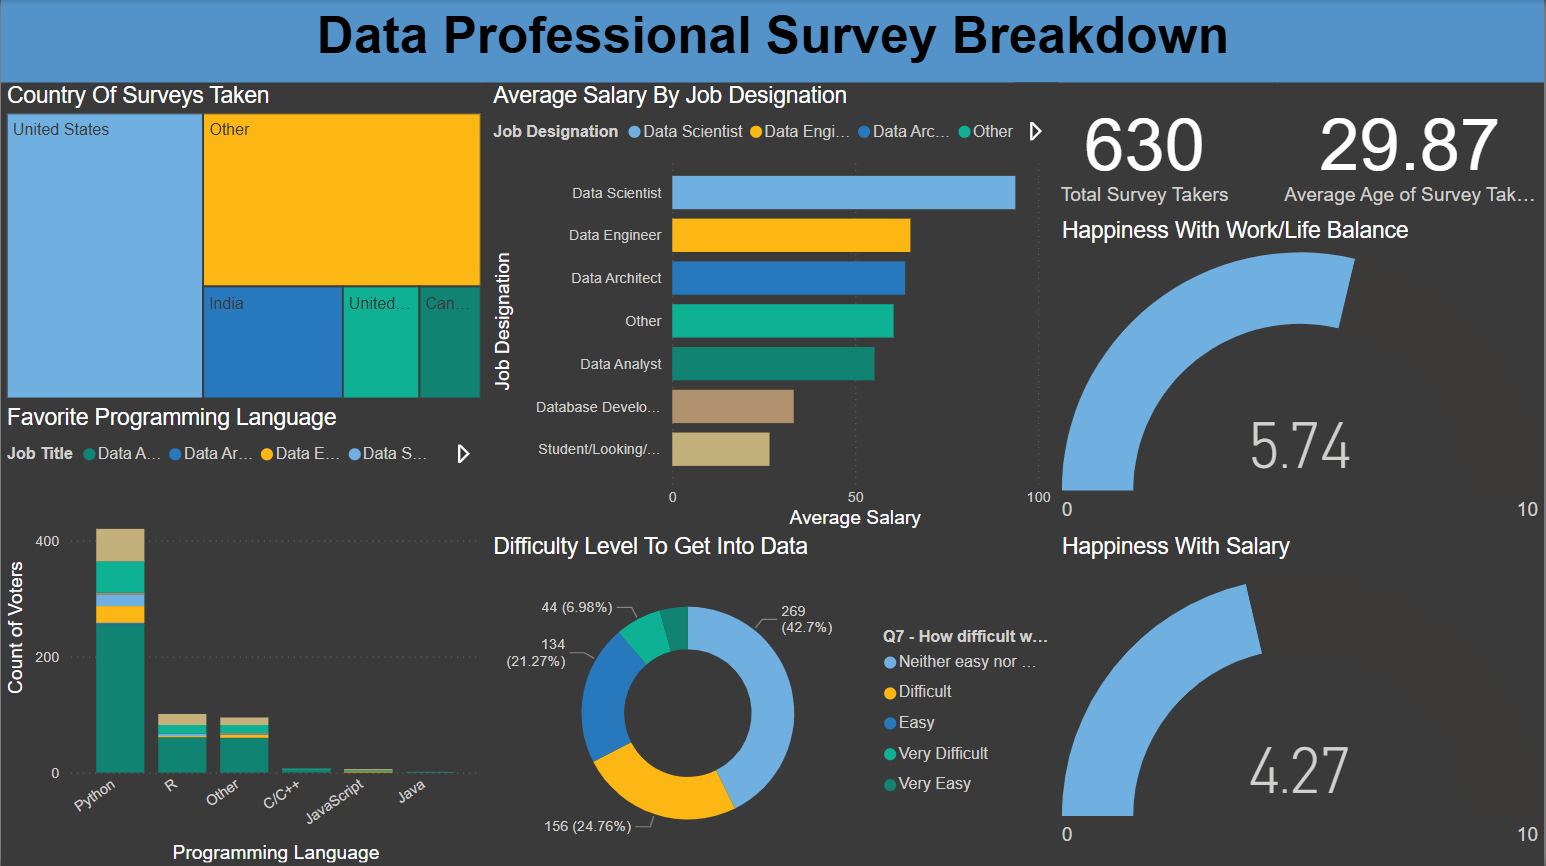

What the dashboard file says about the page in this screenshot:
{"tool":"powerbi","page":{"name":"DashBoard","canvas":[1280,720],"ordinal":0},"visuals":[{"type":"textbox","box":[0,0,1280,68.6],"z":0},{"type":"card","fields":{"Values":["CountNonNull(Data Professional Survey.Unique ID)"]},"box":[840,68.6,215.7,111.4],"z":1000},{"type":"card","fields":{"Values":["Avg(Data Professional Survey.Q10 - Current Age)"]},"box":[1055.7,68.6,224.3,111.4],"z":2000},{"type":"barChart","title":"Average Salary By Job Designation","fields":{"Category":["Data Professional Survey.Q1 - Which Title Best Fits your Current Role?.1"],"Y":["Avg(Data Professional Survey.Average Salary)"],"Series":["Data Professional Survey.Q1 - Which Title Best Fits your Current Role?.1"]},"box":[402.9,68.6,472.9,374.3],"z":3000},{"type":"columnChart","title":"Favorite Programming Language","fields":{"Y":["CountNonNull(Data Professional Survey.Unique ID)"],"Category":["Data Professional Survey.Q5 - Favorite Programming Language.1"],"Series":["Data Professional Survey.Q1 - Which Title Best Fits your Current Role?.1"]},"box":[0,335.7,402.9,384.3],"z":4000},{"type":"treemap","title":"Country Of Surveys Taken","fields":{"Group":["Data Professional Survey.Q11 - Which Country do you live in?.1"],"Values":["CountNonNull(Data Professional Survey.Q11 - Which Country do you live in?.1)"]},"box":[0,68.6,402.9,267.1],"z":5000},{"type":"gauge","title":"Happiness With Work/Life Balance","fields":{"Y":["Avg(Data Professional Survey.Q6 - How Happy are you in your Current Position with the following? (Work/Life Balance))"],"MinValue":["Min(Data Professional Survey.Q6 - How Happy are you in your Current Position with the following? (Work/Life Balance))"],"MaxValue":["Max(Data Professional Survey.Q6 - How Happy are you in your Current Position with the following? (Work/Life Balance))"]},"box":[875,180,405,262.5],"z":6000},{"type":"gauge","title":"Happiness With Salary","fields":{"Y":["Avg(Data Professional Survey.Q6 - How Happy are you in your Current Position with the following? (Salary))"],"MinValue":["Min(Data Professional Survey.Q6 - How Happy are you in your Current Position with the following? (Salary))"],"MaxValue":["Max(Data Professional Survey.Q6 - How Happy are you in your Current Position with the following? (Salary))"]},"box":[875,442.5,405,277.5],"z":7000},{"type":"donutChart","title":"Difficulty Level To Get Into Data","fields":{"Y":["CountNonNull(Data Professional Survey.Q7 - How difficult was it for you to break into Data?)"],"Category":["Data Professional Survey.Q7 - How difficult was it for you to break into Data?"]},"box":[403,443,472,277],"z":7001}]}

Visuals, with their boxes in screenshot pixels (x1, y1, x2, y2), scaled from the page's 1280x720 canvas onto the 1546x866 screenshot:
textbox: bbox=(0, 0, 1545, 83)
card - CountNonNull(Data Professional Survey.Unique ID): bbox=(1015, 83, 1275, 216)
card - Avg(Data Professional Survey.Q10 - Current Age): bbox=(1275, 83, 1545, 216)
"Average Salary By Job Designation" barChart: bbox=(487, 83, 1058, 533)
"Favorite Programming Language" columnChart: bbox=(0, 404, 487, 865)
"Country Of Surveys Taken" treemap: bbox=(0, 83, 487, 404)
"Happiness With Work/Life Balance" gauge: bbox=(1057, 216, 1545, 532)
"Happiness With Salary" gauge: bbox=(1057, 532, 1545, 865)
"Difficulty Level To Get Into Data" donutChart: bbox=(487, 533, 1057, 865)
